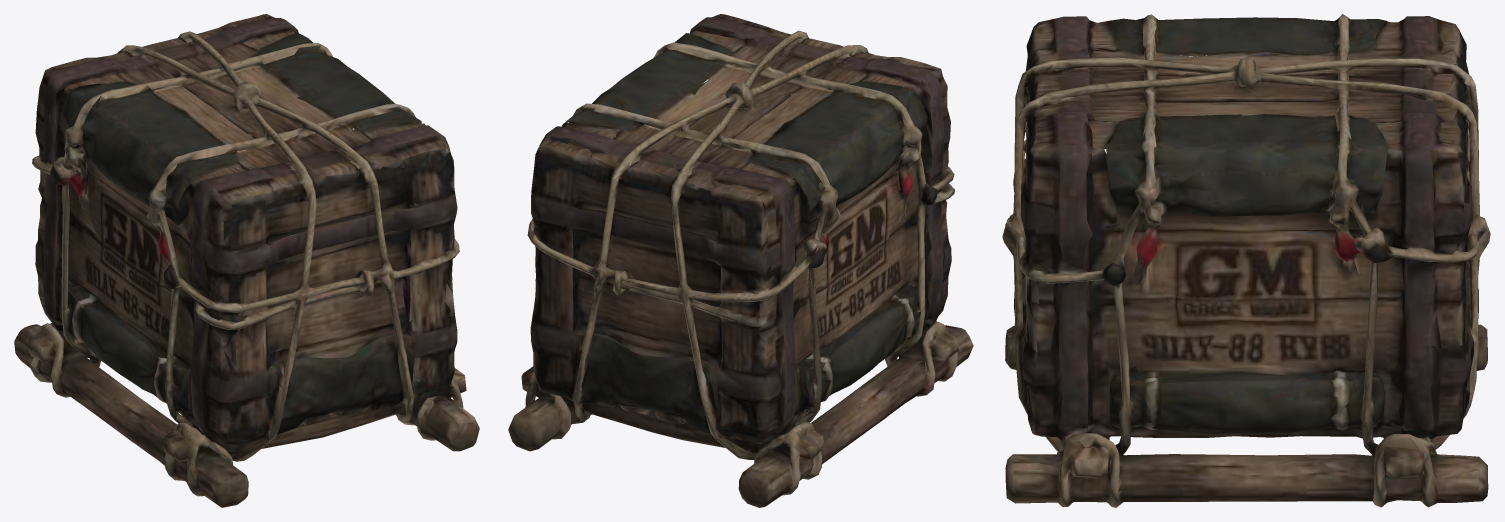
File: shipment.glb
The picture shows the model from 3 angles, left to right: view 1: azimuth 30°, elevation 25°; view 2: azimuth 150°, elevation 25°; view 3: azimuth 270°, elevation 25°; orthographic projection. The views are drawn at different scales.
Parts seen in each view (by area): view 1: tripo_node_f3d0694d; view 2: tripo_node_f3d0694d; view 3: tripo_node_f3d0694d.
Boxes of the visible parts, bbox=[...] form: tripo_node_f3d0694d: bbox=[14, 14, 479, 507]; tripo_node_f3d0694d: bbox=[508, 14, 973, 507]; tripo_node_f3d0694d: bbox=[1002, 14, 1490, 507].
Bounding box in the file's own units: 0.8472 × 0.9 × 1.04.
1 material, 1 textured.
